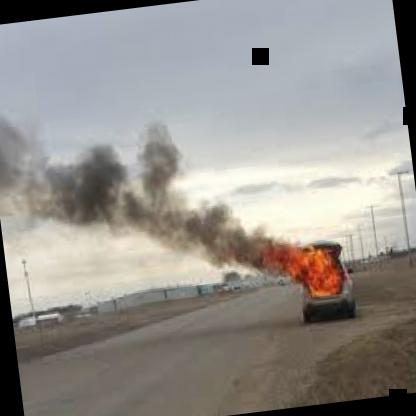fire: (268, 222, 376, 336)
